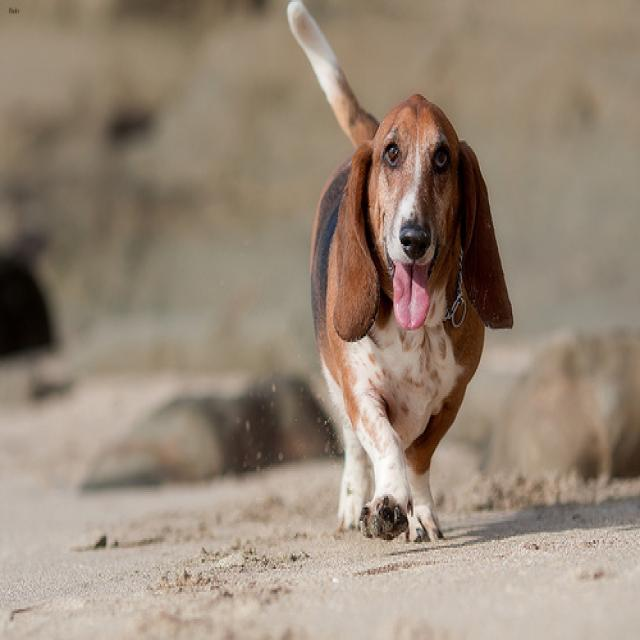dog-basset_hound: (278, 2, 518, 555)
